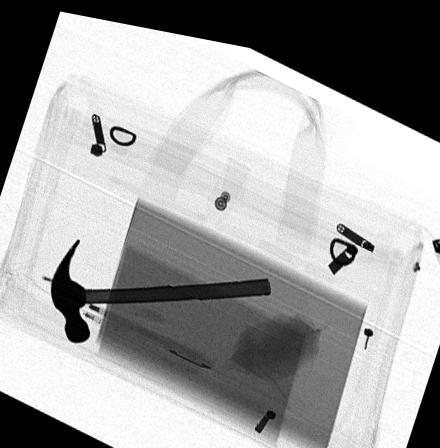Hammer: (49, 232, 271, 339)
